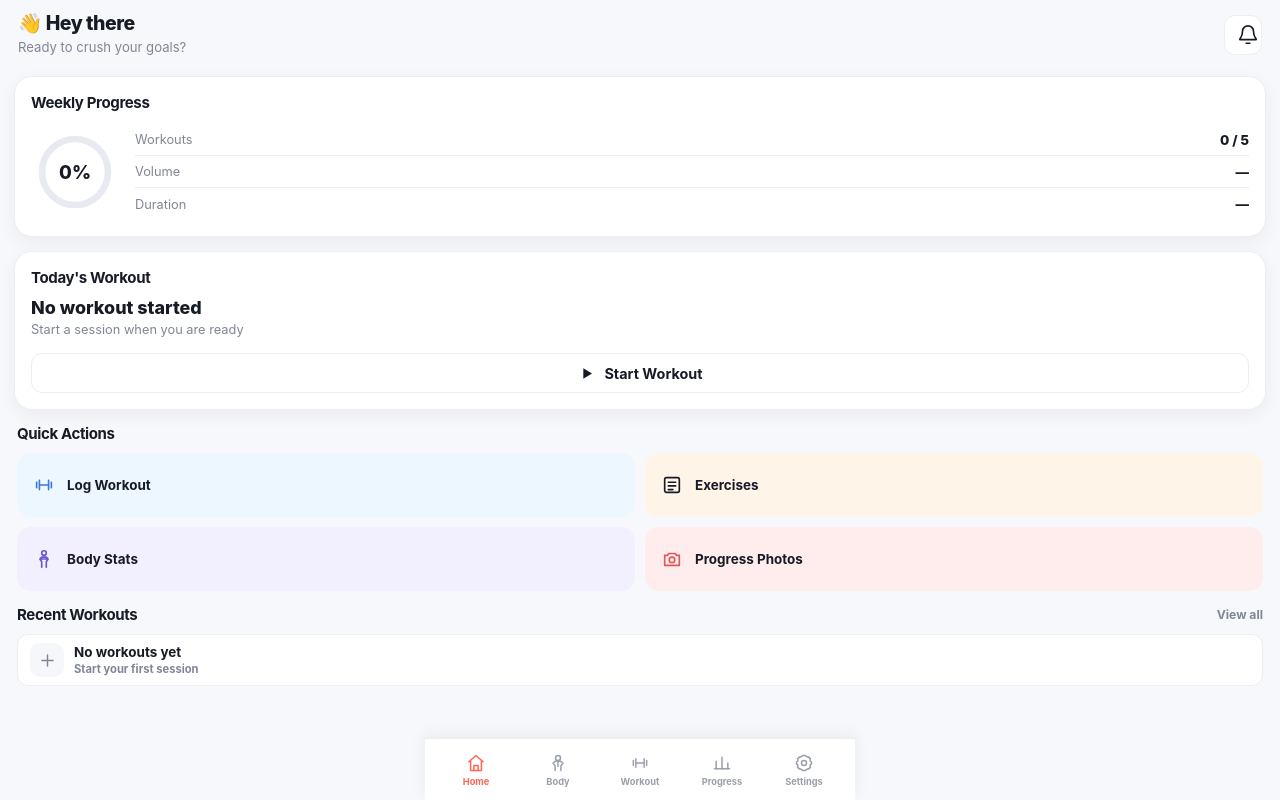
App shell › titles the sub-pages too
Click the button "Workout" at (640, 770), box [599,744,681,795]
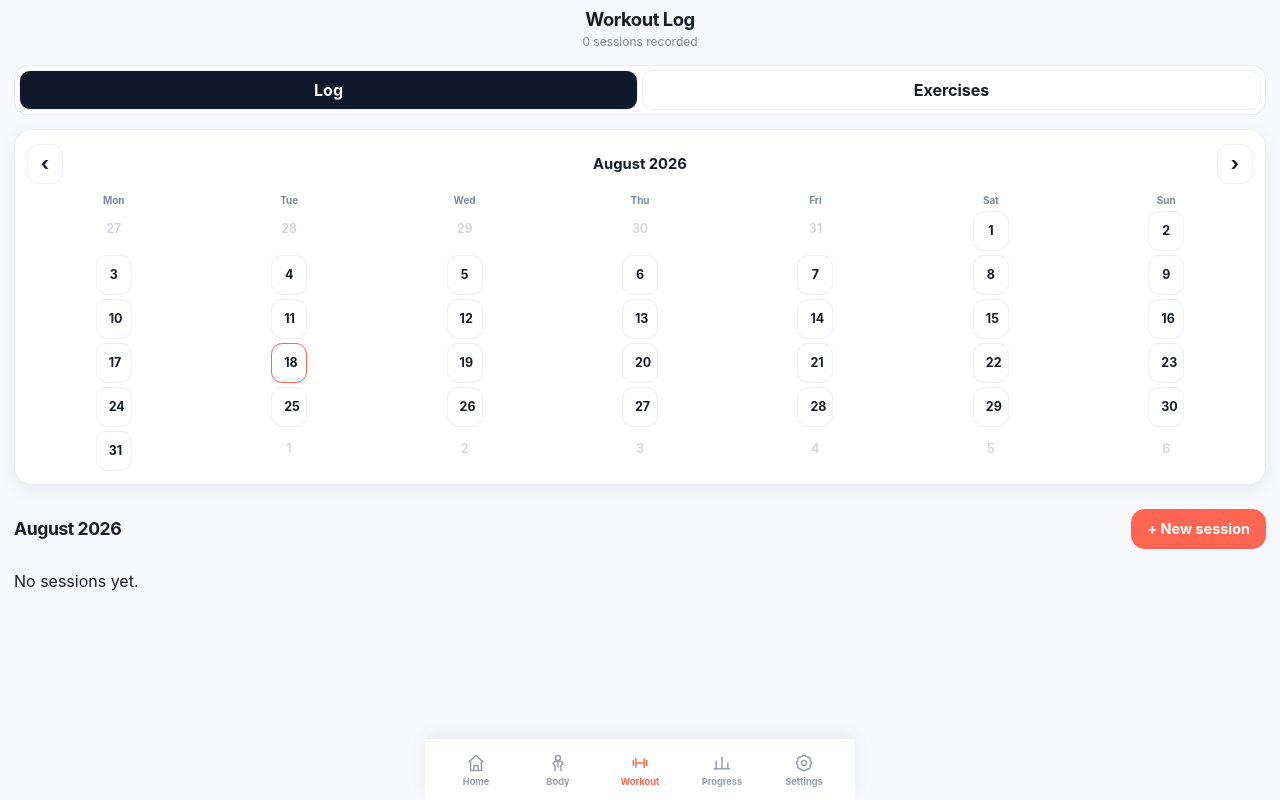
Click the button "Exercises" at (952, 90), box [642,70,1261,110]
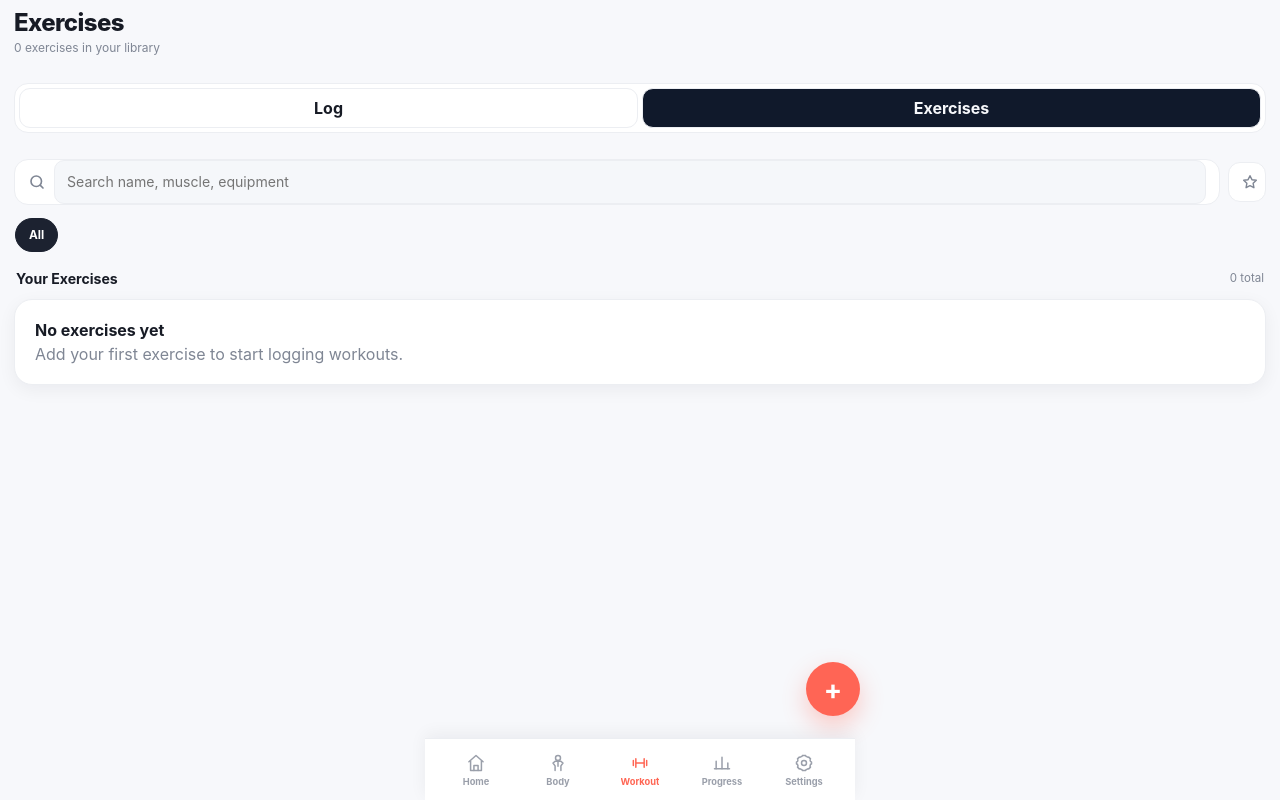
Expected: the heading "Exercises" is shown, [14,8,124,37]
Click the button "Body" at (558, 770), box [517,744,599,795]
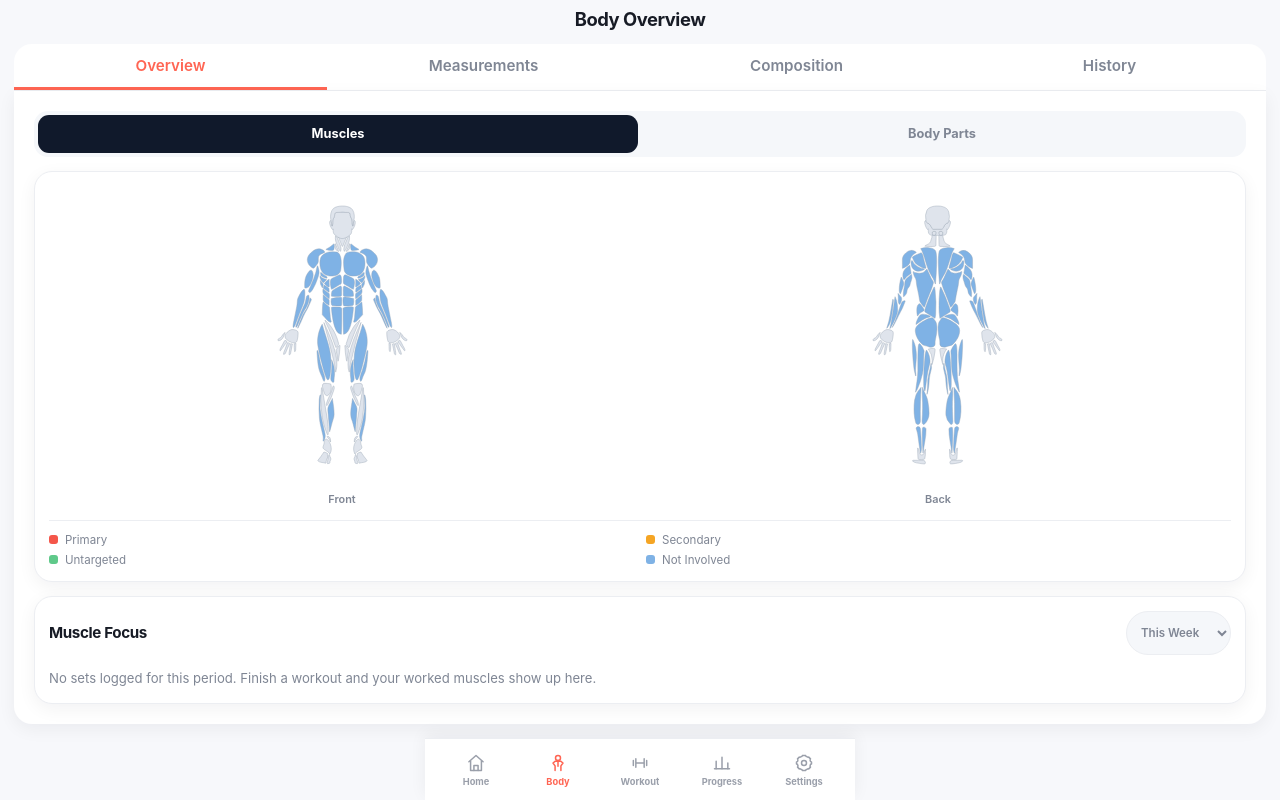
Click the tab "Measurements" at (484, 67), box [327,44,640,90]
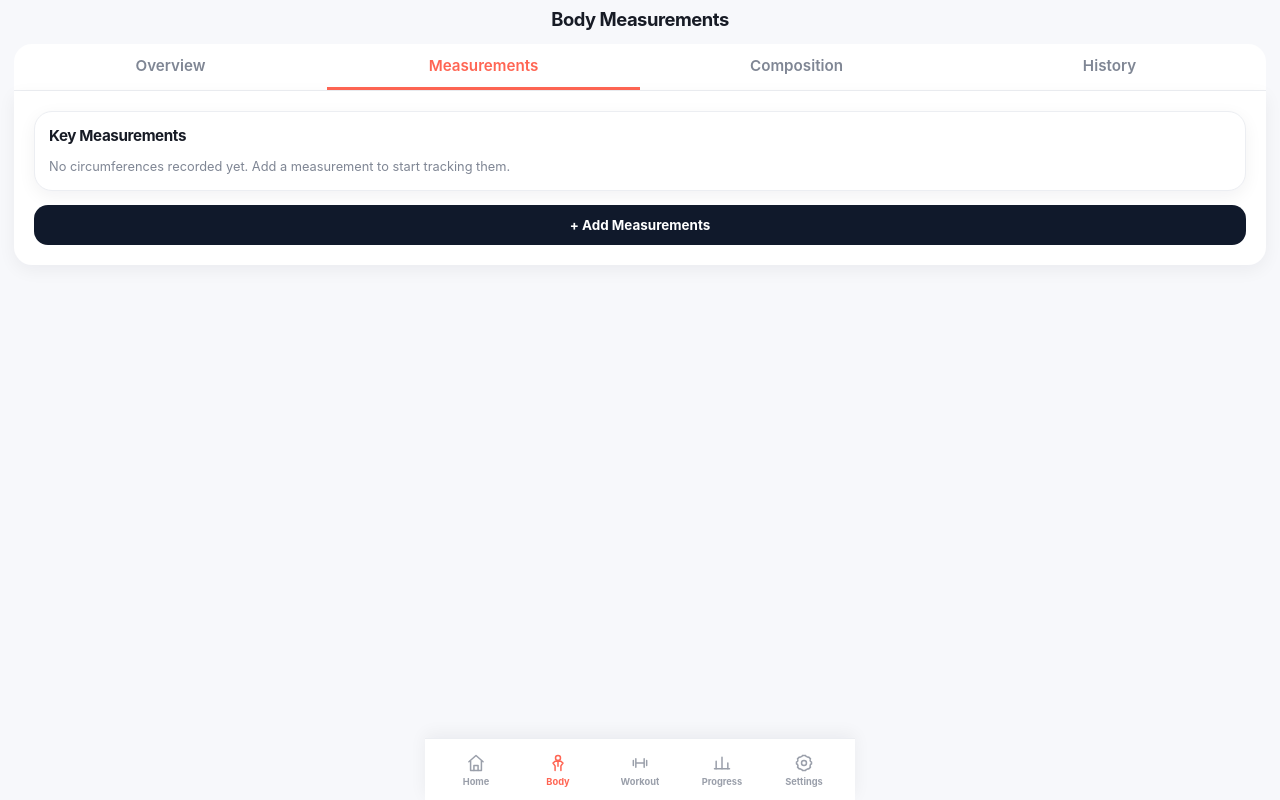
Expected: the heading "Body Measurements" is shown, [551,8,729,30]
